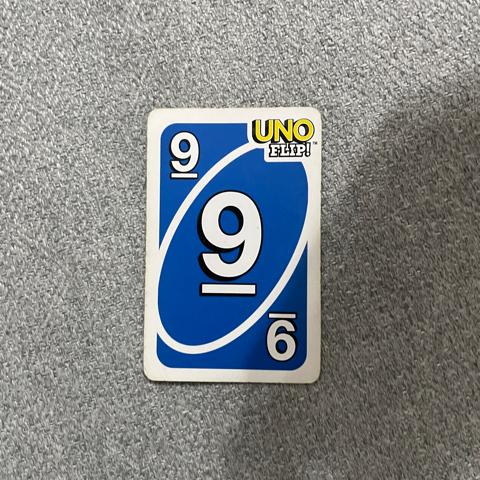lblue-9: (155, 118, 208, 185)
